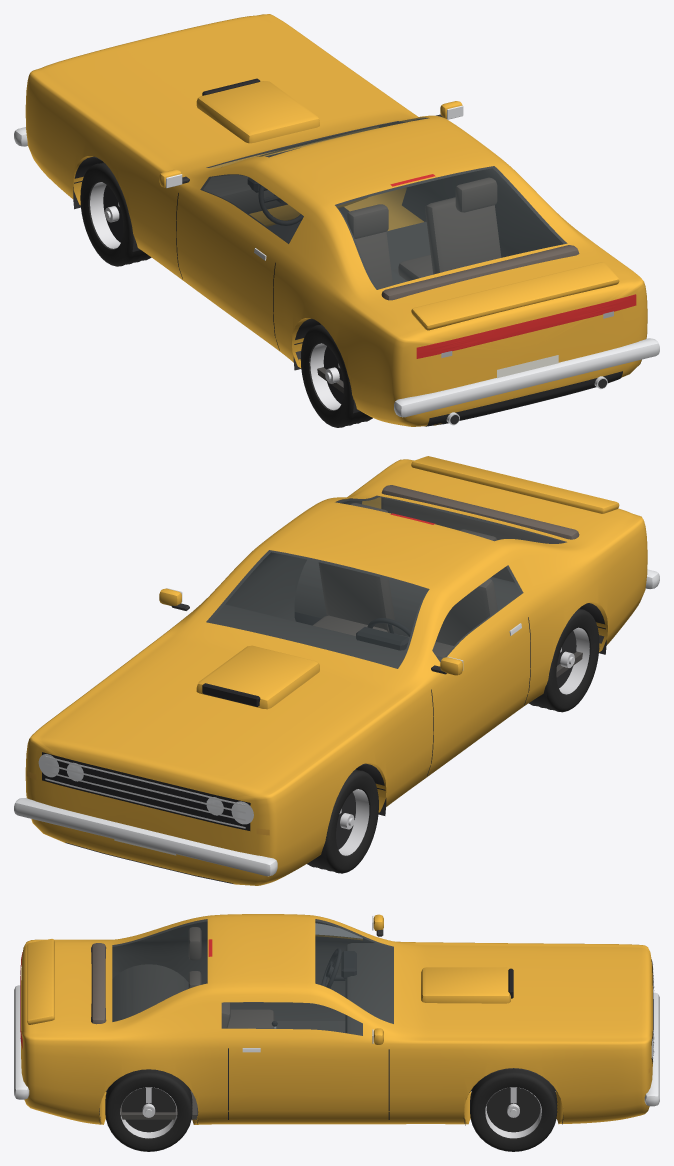
Rendered from brute_69.glb.
The picture shows the model from 3 angles, top to bottom: view 1: azimuth 30°, elevation 25°; view 2: azimuth 150°, elevation 25°; view 3: azimuth 270°, elevation 25°; orthographic projection. The views are drawn at different scales.
Parts seen in each view (by area): view 1: Body, Glass, Interior, Wheel_FL, Wheel_RL, Lights_Tail; view 2: Body, Interior, Glass, Wheel_FL, Wheel_RL, Lights_Head; view 3: Body, Interior, Glass, Wheel_FR, Wheel_RR, SteeringWheel.
Boxes of the visible parts, bbox=[...] form: Body: bbox=[14, 14, 659, 426]; Glass: bbox=[201, 117, 566, 289]; Interior: bbox=[200, 117, 579, 393]; Wheel_FL: bbox=[80, 162, 151, 266]; Wheel_RL: bbox=[300, 324, 372, 427]; Lights_Tail: bbox=[416, 294, 636, 358]; Body: bbox=[14, 456, 659, 885]; Interior: bbox=[206, 485, 604, 677]; Glass: bbox=[207, 496, 565, 668]; Wheel_FL: bbox=[307, 769, 378, 873]; Wheel_RL: bbox=[528, 609, 599, 712]; Lights_Head: bbox=[38, 754, 253, 824]; Body: bbox=[14, 914, 659, 1125]; Interior: bbox=[91, 919, 393, 1119]; Glass: bbox=[112, 919, 393, 1035]; Wheel_FR: bbox=[470, 1069, 557, 1151]; Wheel_RR: bbox=[105, 1069, 192, 1151]; SteeringWheel: bbox=[321, 948, 341, 988].
Size of the model in its own units: 2.24 by 1.34 by 5.03.
